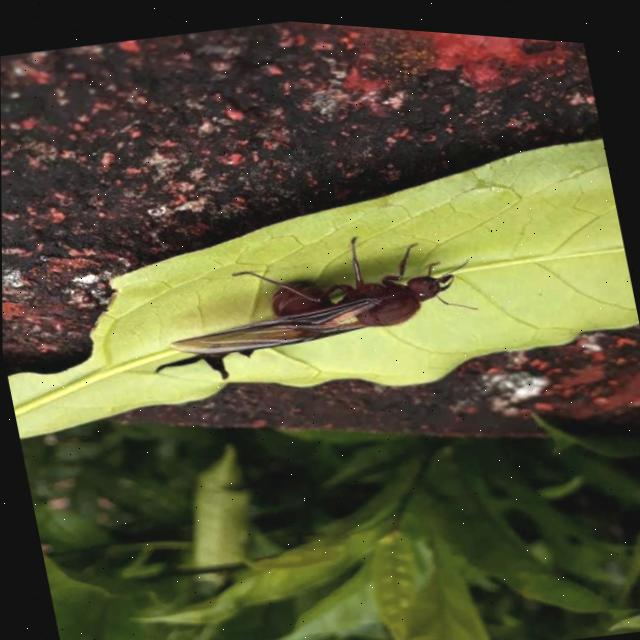Alive-Female-Alate: (151, 198, 482, 376)
